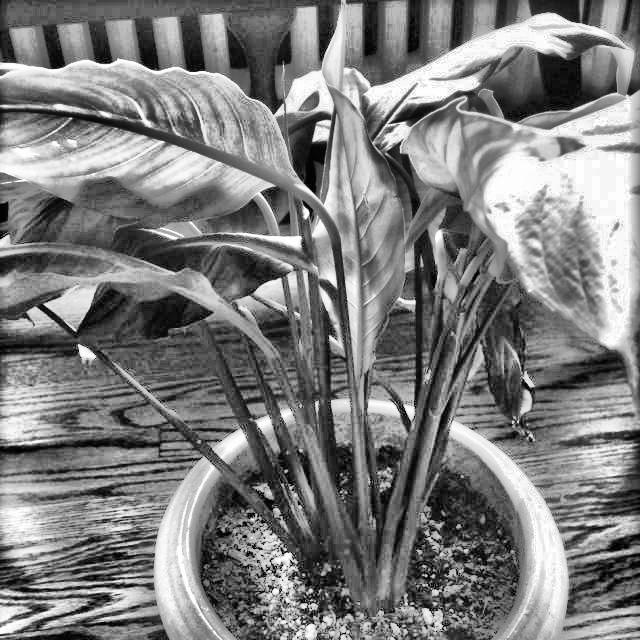plants: (0, 29, 639, 639), (418, 106, 592, 182), (488, 372, 549, 450), (72, 314, 114, 373)
